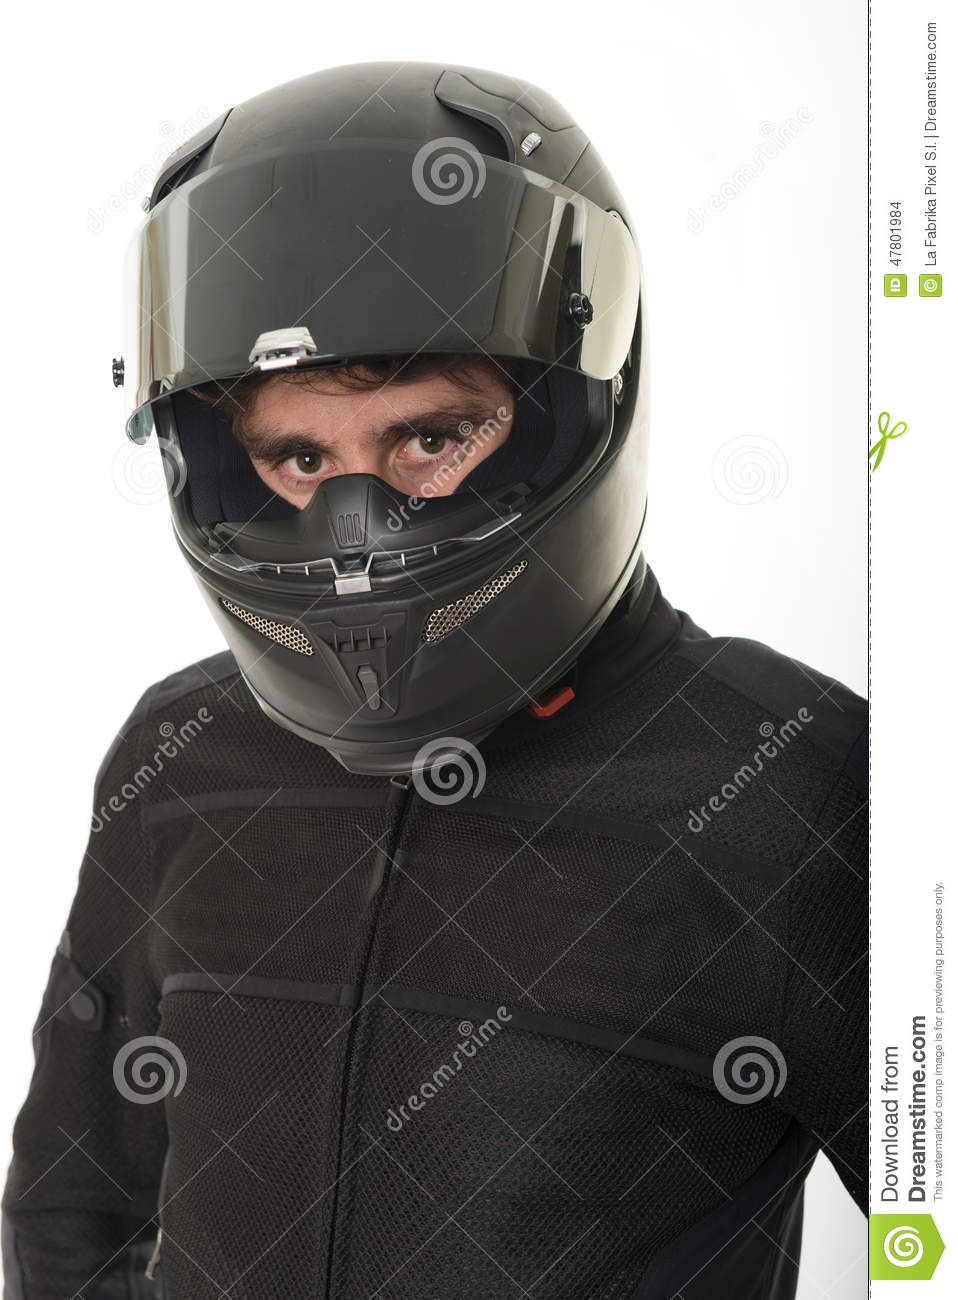helmet: (109, 87, 653, 693)
